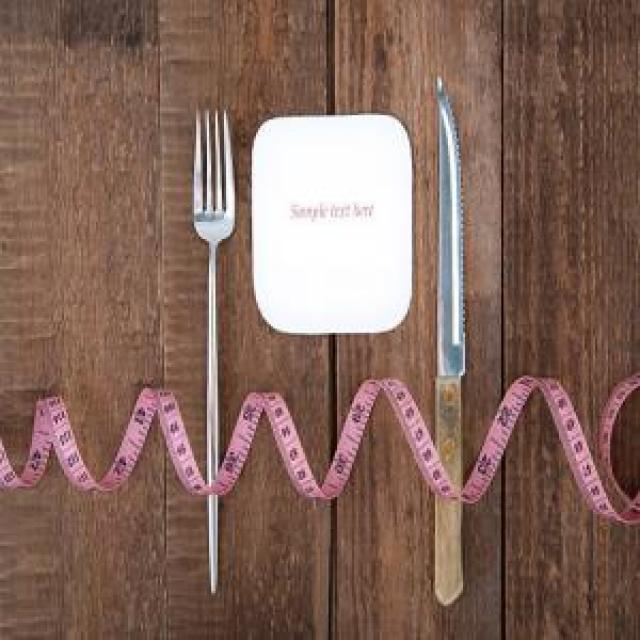knife: (438, 75, 468, 606)
